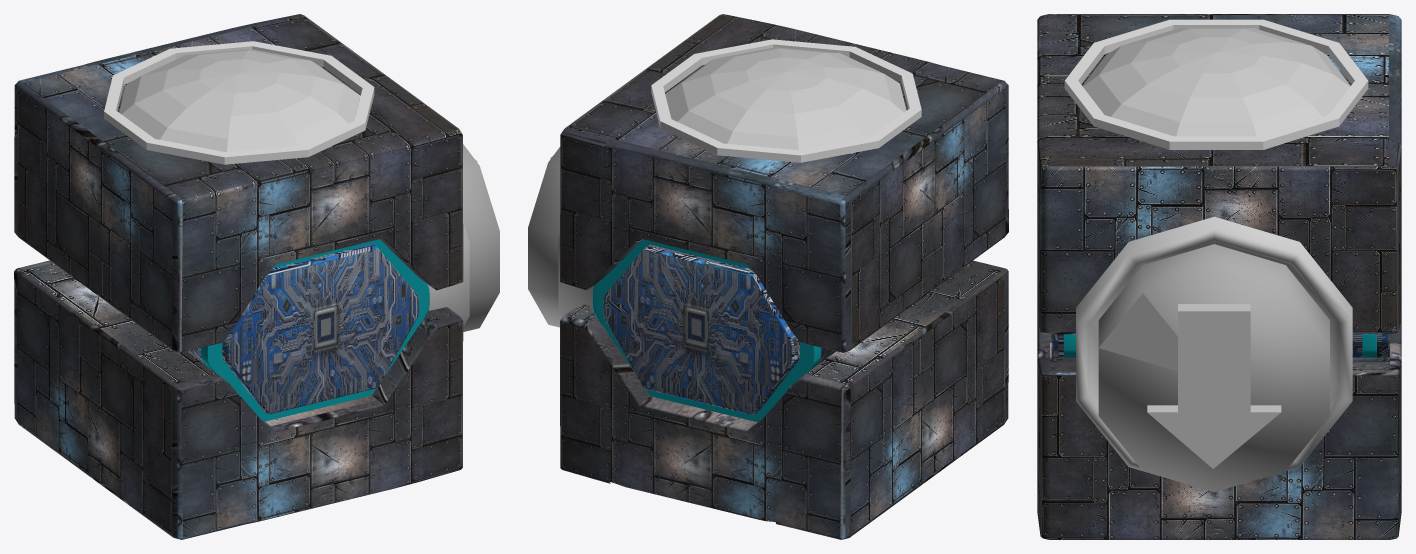
File: DownloadBox.fbx
3 renders of one model, left to right at view 1: azimuth 30°, elevation 25°; view 2: azimuth 150°, elevation 25°; view 3: azimuth 270°, elevation 25°, orthographic. The views are drawn at different scales.
Parts seen in each view (by area): view 1: pCube17, pCube13, pCube16, polySurface17, polySurface15, Download_Box_pCylinder2, pCube14, Download_Box_pCylinder1; view 2: pCube17, pCube13, pCube16, polySurface17, polySurface15, Download_Box_pCylinder2, pCube15, Download_Box_pCylinder1; view 3: pCube17, pCube13, Download_Box_pCylinder2, polySurface17, Download_Box_pCylinder1, Download_Box_pCube7, polySurface15, pCube16.
Boxes of the visible parts, box(x1,y1,x2,y2) form: pCube17: box(14, 14, 463, 352); pCube13: box(14, 260, 463, 539); pCube16: box(187, 244, 418, 414); polySurface17: box(119, 49, 360, 152); polySurface15: box(104, 41, 374, 164); Download_Box_pCylinder2: box(463, 144, 499, 331); pCube14: box(201, 239, 429, 421); Download_Box_pCylinder1: box(428, 221, 469, 326); pCube17: box(560, 14, 1008, 352); pCube13: box(560, 260, 1008, 539); pCube16: box(603, 244, 835, 414); polySurface17: box(665, 47, 906, 150); polySurface15: box(651, 39, 921, 162); Download_Box_pCylinder2: box(528, 147, 561, 327); pCube15: box(592, 239, 821, 422); Download_Box_pCylinder1: box(558, 234, 594, 318); pCube17: box(1037, 14, 1401, 334); pCube13: box(1037, 319, 1401, 539); Download_Box_pCylinder2: box(1098, 244, 1329, 492); polySurface17: box(1082, 27, 1350, 136); Download_Box_pCylinder1: box(1076, 216, 1352, 470); Download_Box_pCube7: box(1147, 304, 1281, 468); polySurface15: box(1064, 19, 1368, 149); pCube16: box(1051, 334, 1389, 357).
Size of the model in its own units: 3.17 by 3.12 by 2.5.
